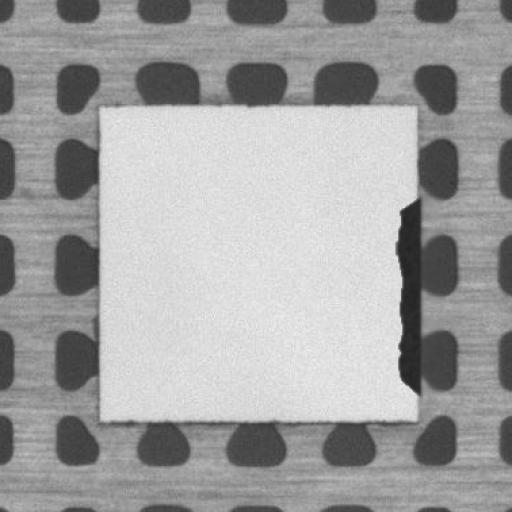DIE_BROKEN: (392, 195, 422, 397)
